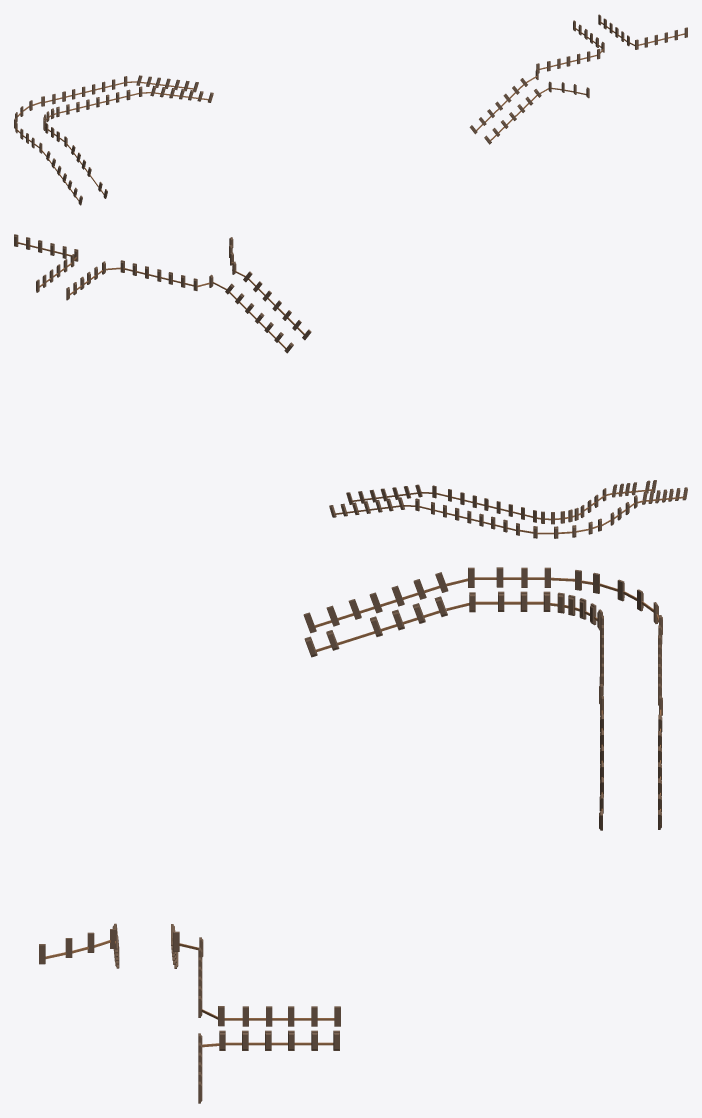
File: Bridge_fixed.fbx
3 views of the same model, one above another, from view 1: azimuth 30°, elevation 25°; view 2: azimuth 150°, elevation 25°; view 3: azimuth 270°, elevation 25° (orthographic). The views are drawn at different scales.
Bounding box in the file's own units: 60822 × 5925 × 28326.
